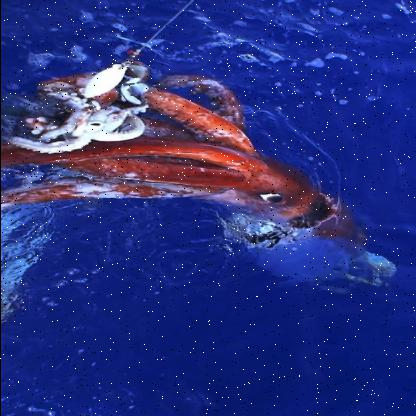colossal_squid: (1, 61, 391, 286)
